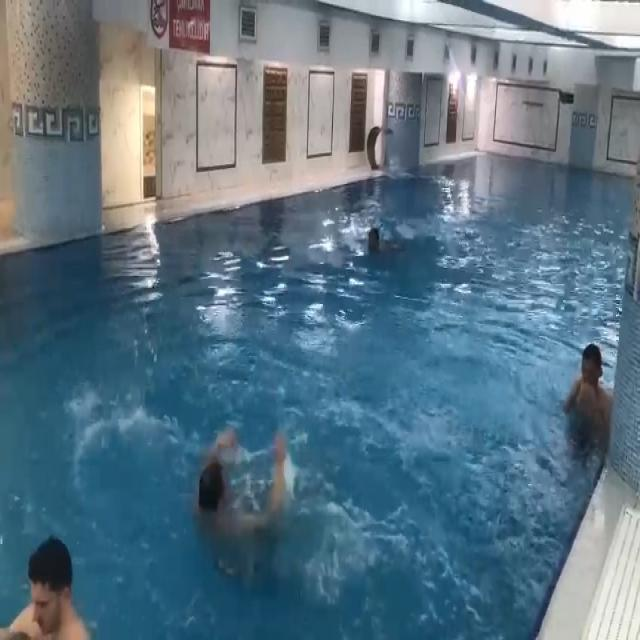Drowning: (196, 428, 286, 566)
Swimming: (362, 222, 398, 262)
